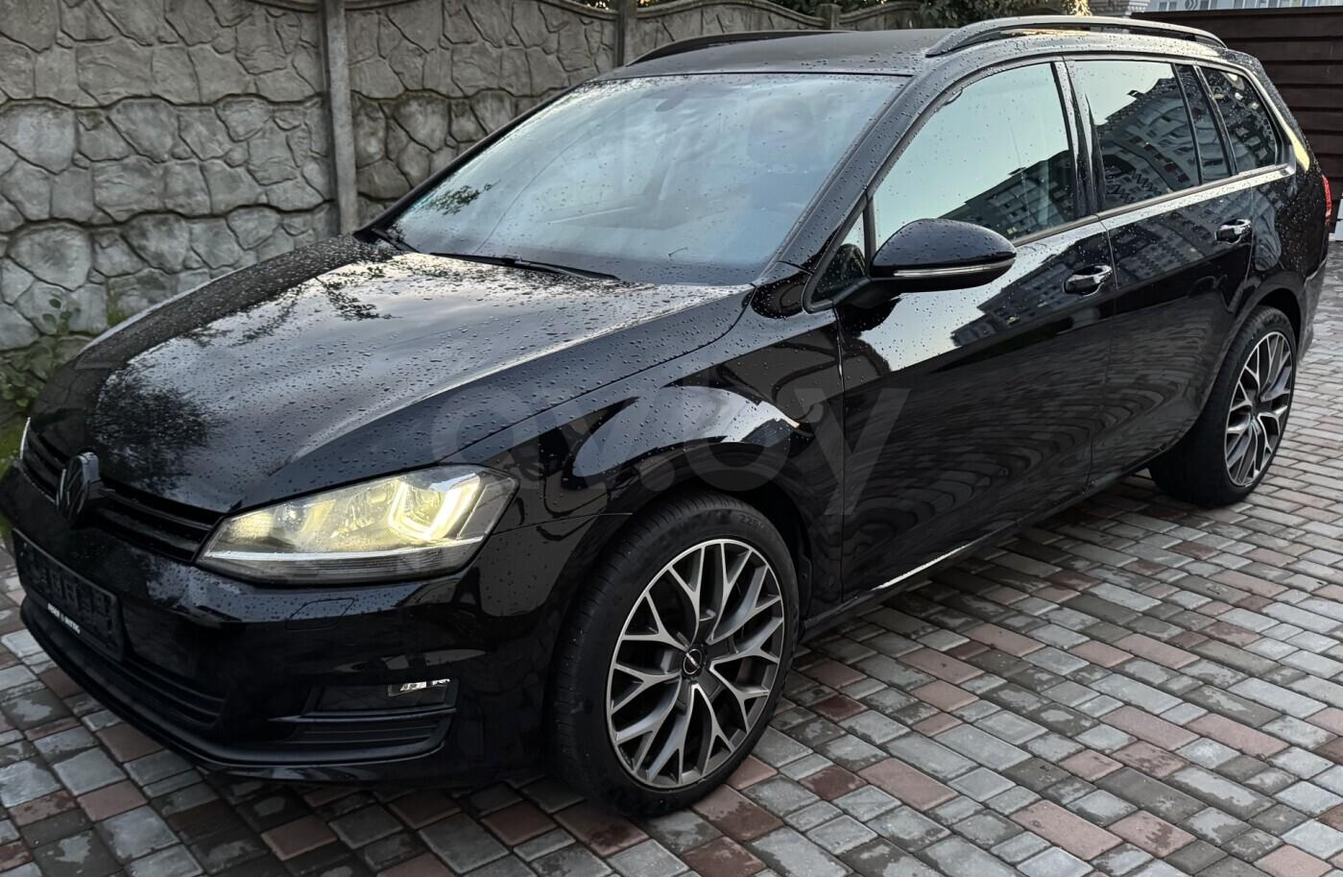Golf_2012-2017: (0, 18, 1343, 811)
